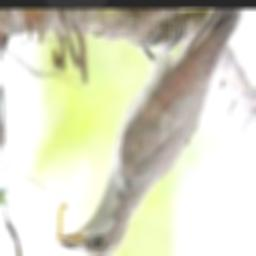Cuckoo: (59, 9, 244, 256)
